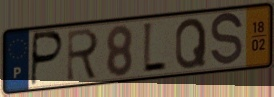8: (104, 23, 134, 78)
L: (141, 20, 168, 76)
P: (29, 29, 66, 89)
Q: (173, 16, 208, 72)
R: (65, 27, 101, 84)
S: (209, 10, 245, 70)
